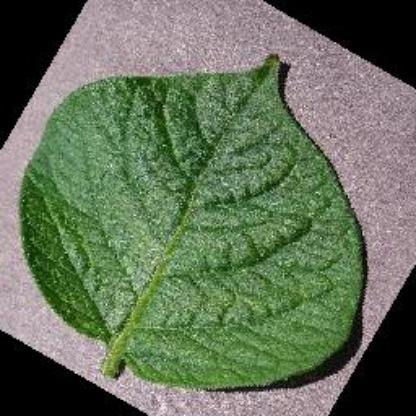Healthy-plant: (18, 54, 366, 392)
